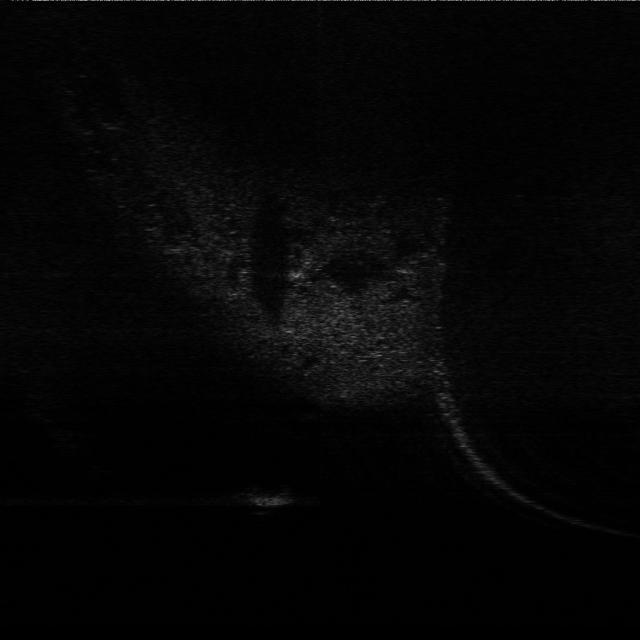square cage: (244, 478, 298, 511)
